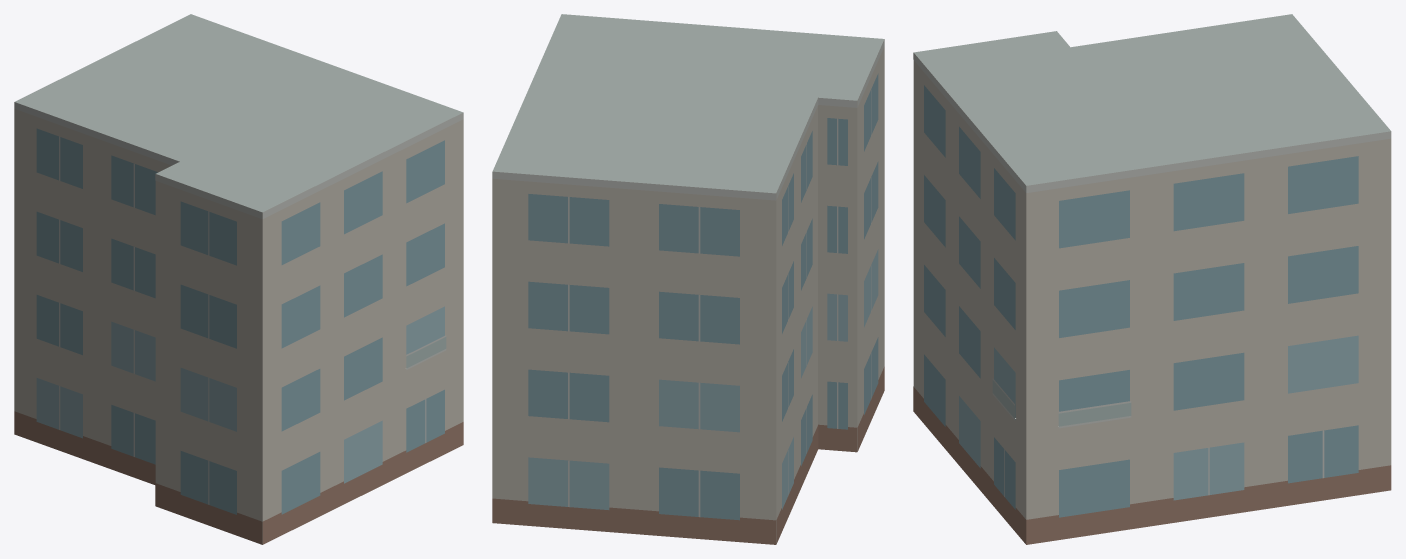
File: survey-upis-32820514.glb
3 views of the same model, side by side, from view 1: azimuth 30°, elevation 25°; view 2: azimuth 150°, elevation 25°; view 3: azimuth 270°, elevation 25° (orthographic). The views are drawn at different scales.
Parts seen in each view (by area): view 1: survey-upis-32820514.tmp; view 2: survey-upis-32820514.tmp; view 3: survey-upis-32820514.tmp.
Boxes of the visible parts, x1,y1,x2,y2 form: survey-upis-32820514.tmp: [14, 14, 463, 544]; survey-upis-32820514.tmp: [492, 14, 884, 544]; survey-upis-32820514.tmp: [913, 14, 1391, 544].
Bounding box in the file's own units: 12.28 × 11.95 × 14.43.
